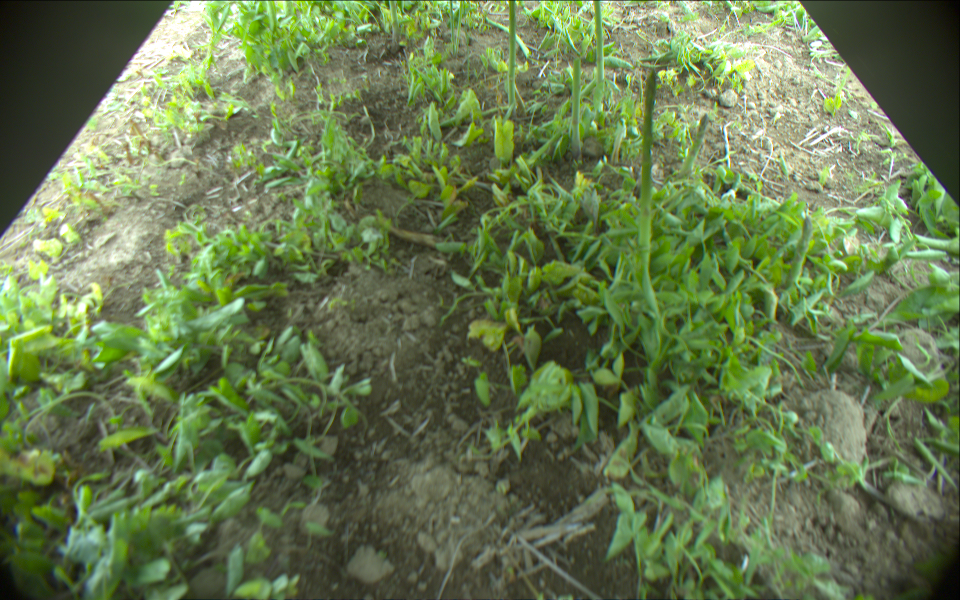aspa: (635, 72, 657, 316), (482, 12, 531, 59), (785, 214, 813, 292), (679, 115, 708, 186), (505, 1, 517, 112), (571, 56, 583, 156), (592, 1, 604, 85), (389, 1, 400, 53), (454, 1, 464, 51), (447, 1, 455, 49)
